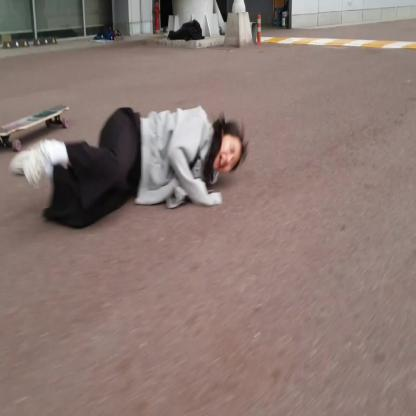Fall_Down: (5, 96, 245, 230)
